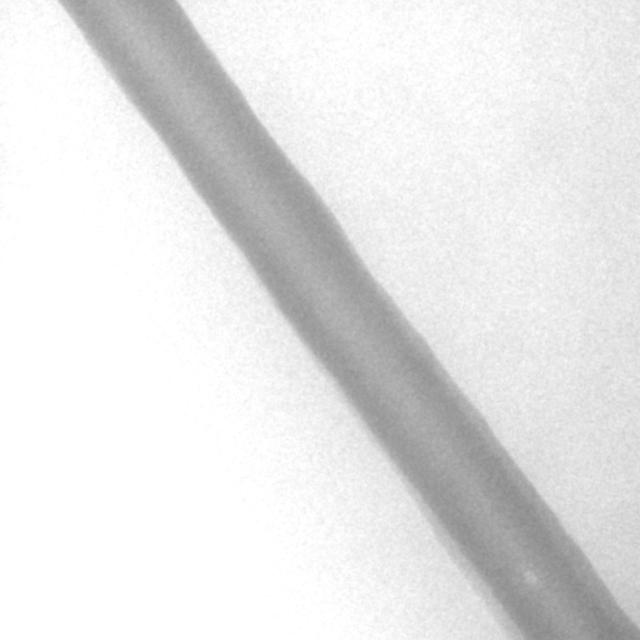air hole: (522, 568, 536, 588)
